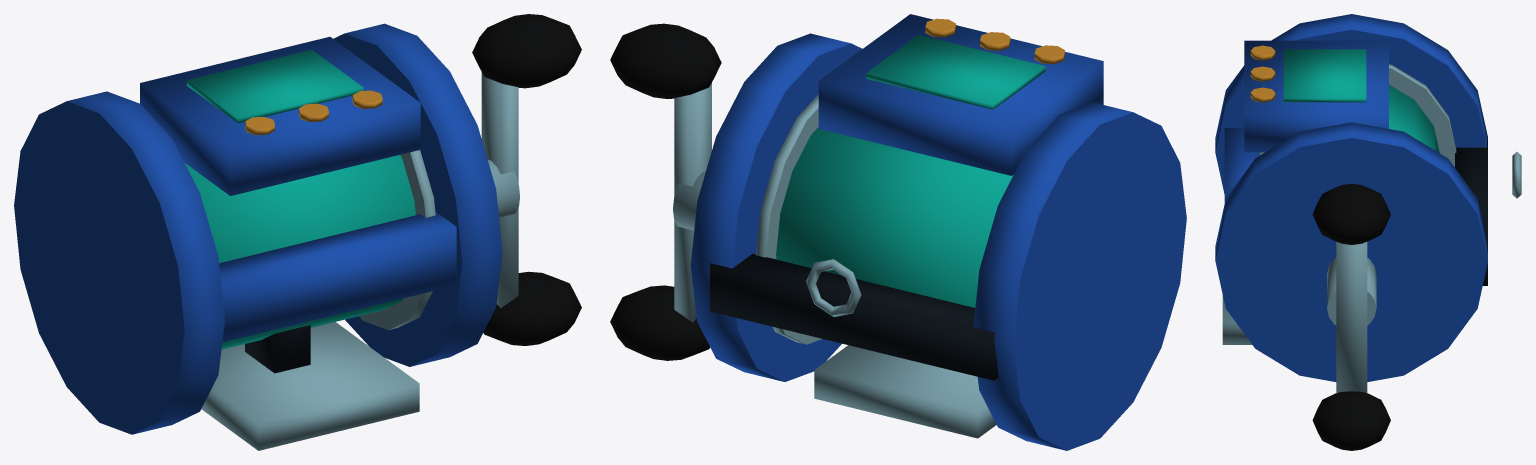
The model's file is electric.glb.
3 renders of one model, left to right at view 1: azimuth 30°, elevation 25°; view 2: azimuth 150°, elevation 25°; view 3: azimuth 270°, elevation 25°, orthographic. The views are drawn at different scales.
Parts seen in each view (by area): view 1: Body, Spool, Crank; view 2: Body, Spool, Crank; view 3: Body, Crank, Spool.
Boxes of the visible parts, <box> form: Body: <box>14,23,502,450</box>; Spool: <box>184,150,435,349</box>; Crank: <box>472,14,581,345</box>; Body: <box>690,14,1186,450</box>; Spool: <box>756,94,1013,344</box>; Crank: <box>610,23,721,360</box>; Body: <box>1215,14,1521,381</box>; Crank: <box>1312,183,1390,450</box>; Spool: <box>1260,64,1456,166</box>.
Bounding box in the file's own units: 2.13 × 1.43 × 1.48.
Materials: 1 (1 with a texture image).
